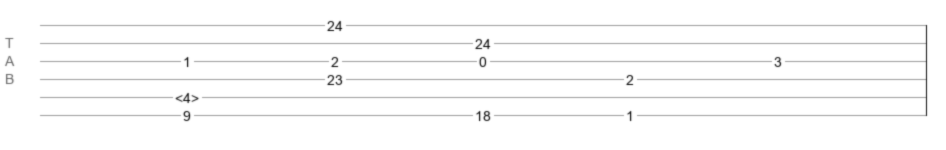0: (479, 54, 487, 64)
1: (183, 54, 191, 64), (626, 108, 634, 118)
18: (475, 108, 491, 118)
2: (331, 54, 339, 64), (626, 72, 634, 82)
23: (327, 72, 343, 82)
24: (327, 18, 343, 28), (475, 36, 491, 46)
3: (774, 54, 782, 64)
9: (183, 108, 191, 118)
harmonic: (175, 90, 199, 100)
